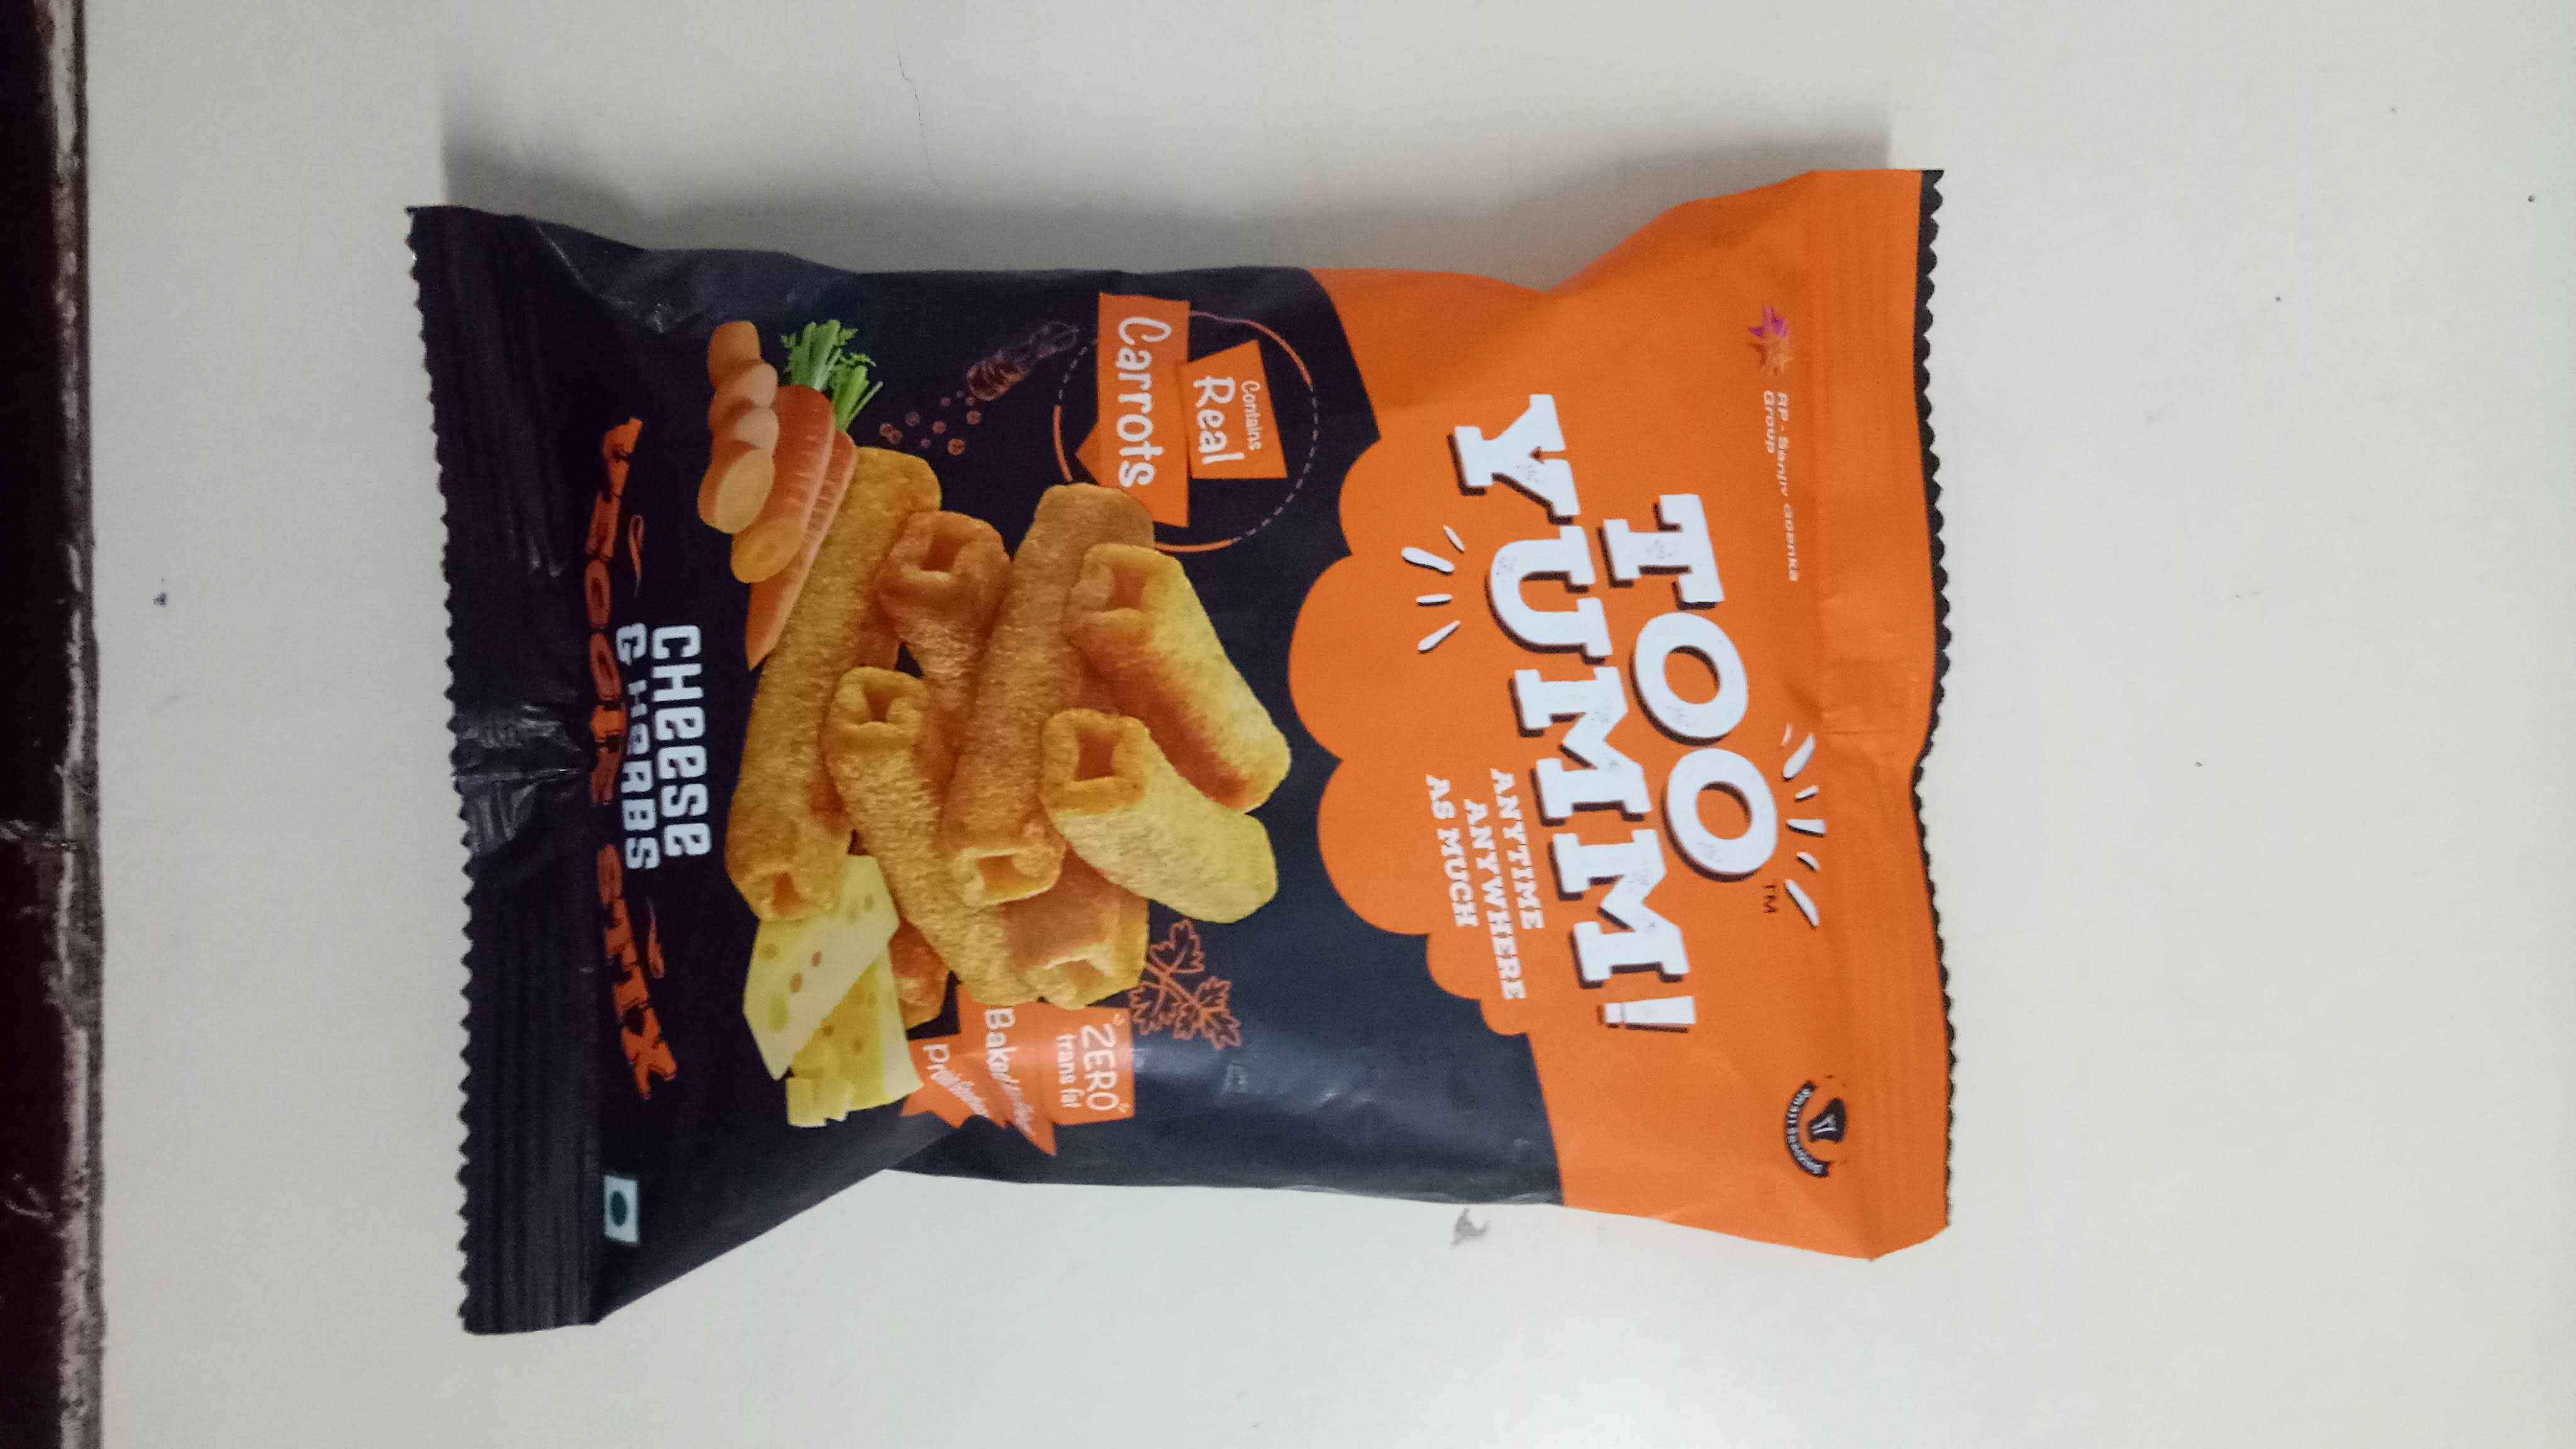tooyumm: (1444, 357, 1803, 1062)
